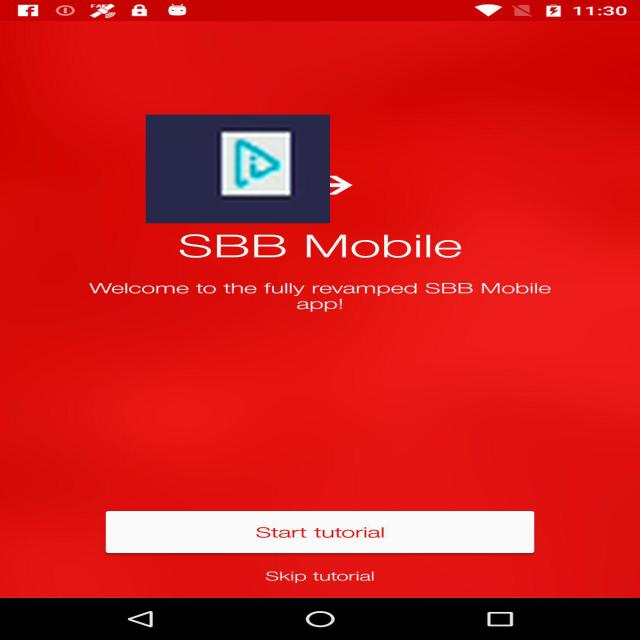sneaking: (146, 115, 330, 223)
